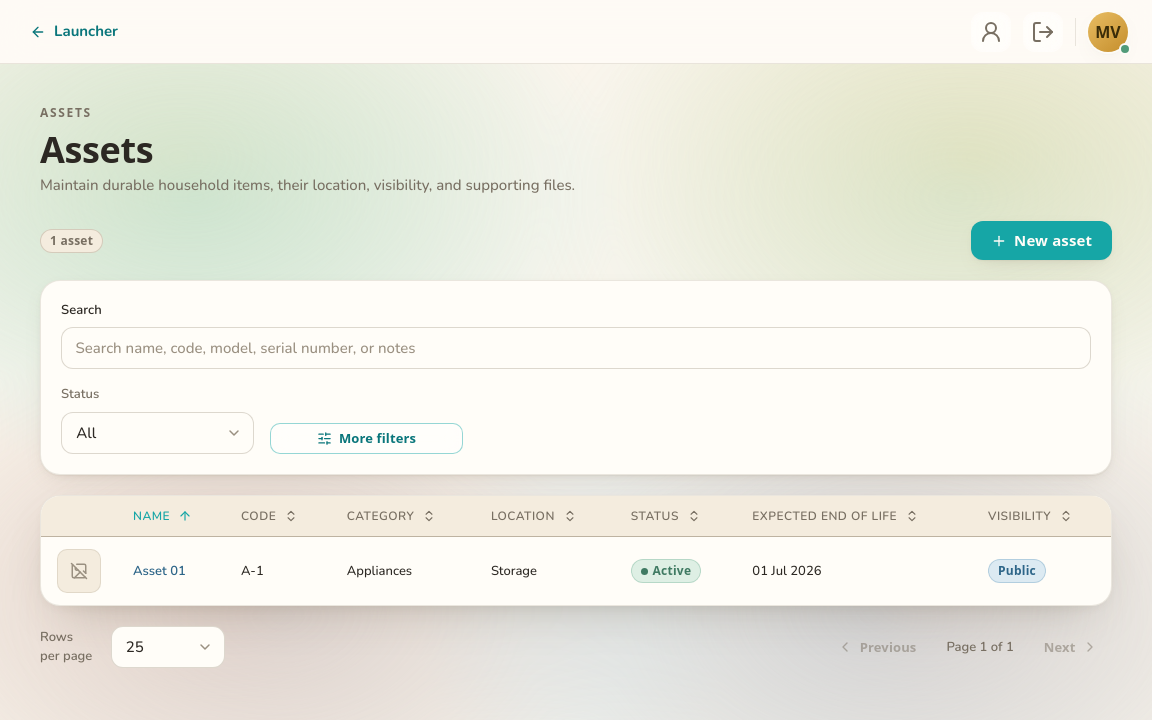
Test: Assets page › opens the create dialog without losing table state
The image size is (1152, 720).
Expected: the button "Asset 01" is shown, [133, 562, 186, 581]
Type "Asset 01" into the field labelled "Search" at (576, 348), box [76, 329, 1076, 367]
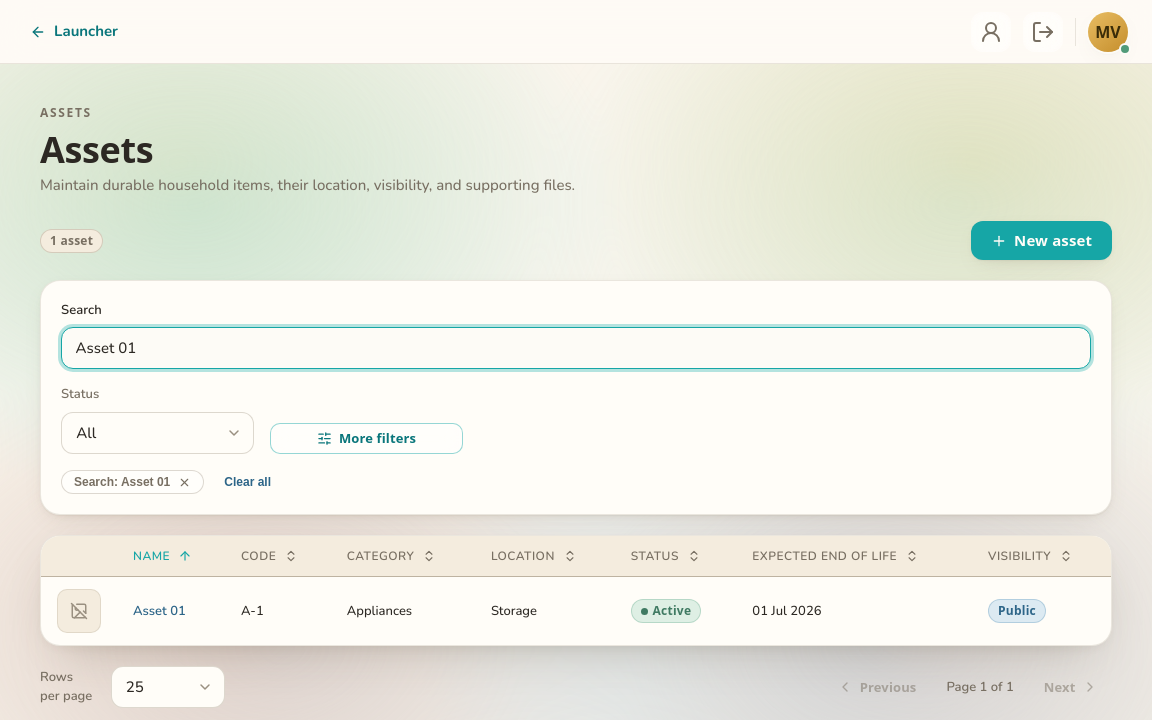
Click the button "New asset" at (1041, 241), box [971, 221, 1112, 260]
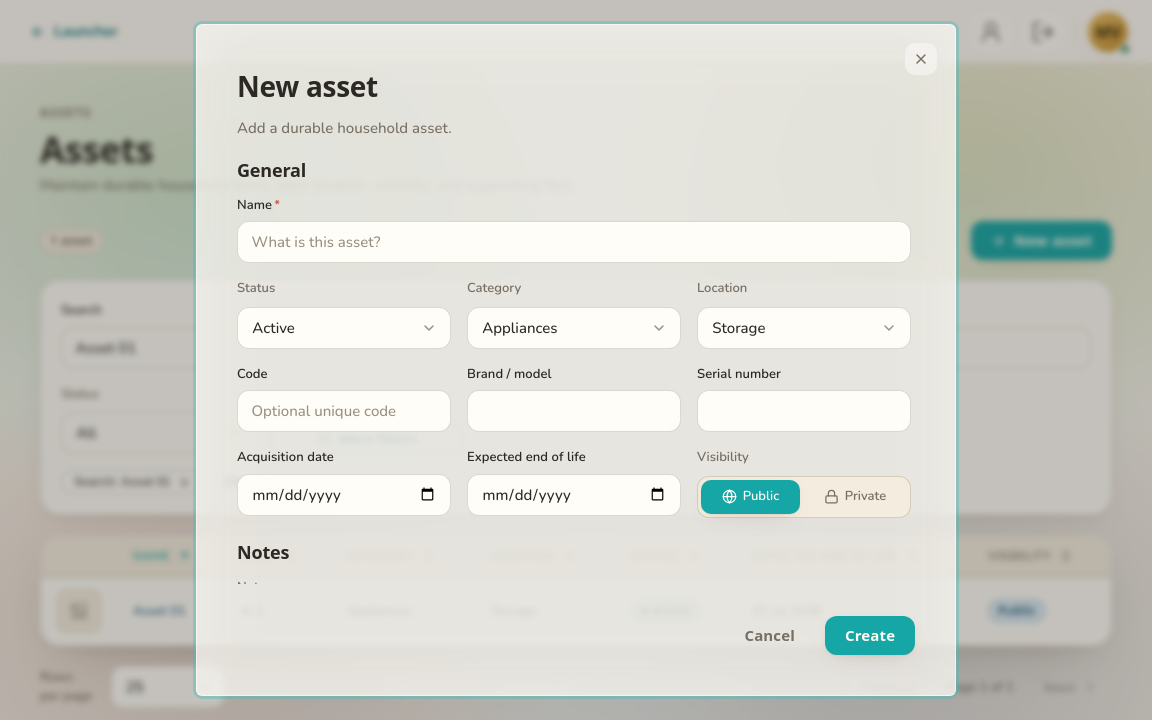
Result: the dialog "New asset" is shown
